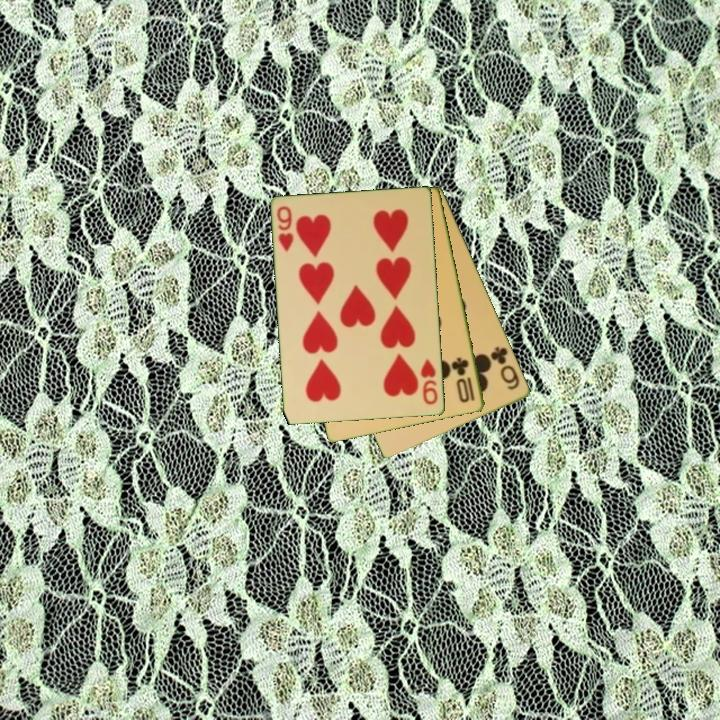10c: (449, 354, 478, 406)
6c: (487, 343, 523, 393)
9h: (418, 356, 441, 408), (274, 203, 297, 255)
